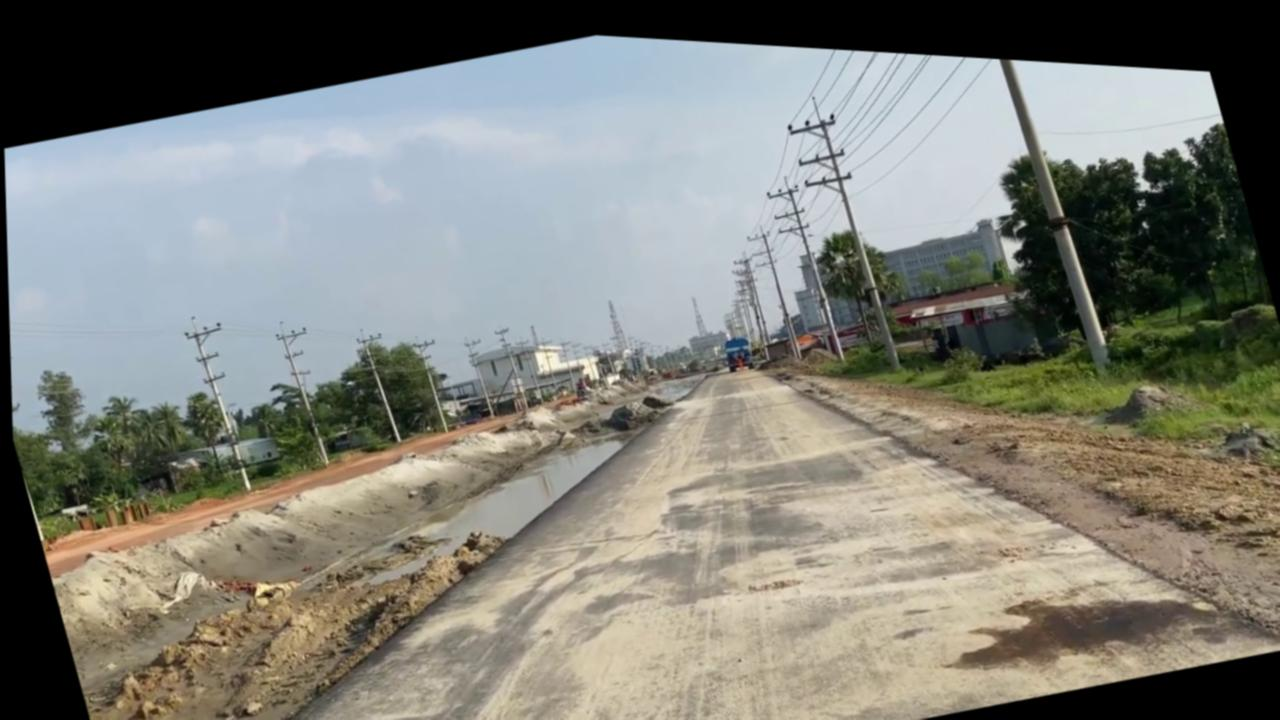Muddy road: (23, 386, 528, 720)
Obstacle: (893, 258, 1049, 372)
Pole: (972, 45, 1111, 362), (779, 80, 903, 369), (761, 161, 845, 358), (177, 306, 262, 494)
Rickshaw: (546, 209, 1280, 720)
Sidewalk: (380, 381, 657, 586)
Traffic-sign: (974, 110, 1178, 347), (804, 206, 915, 352)
Tree: (718, 324, 754, 366)
